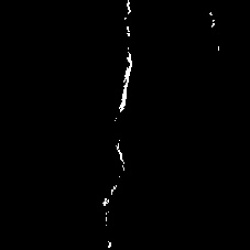crack: (116, 49, 133, 119), (115, 139, 126, 171), (104, 186, 117, 206), (125, 4, 133, 36), (208, 13, 215, 26), (108, 243, 112, 248), (106, 212, 107, 222), (218, 46, 219, 50)
